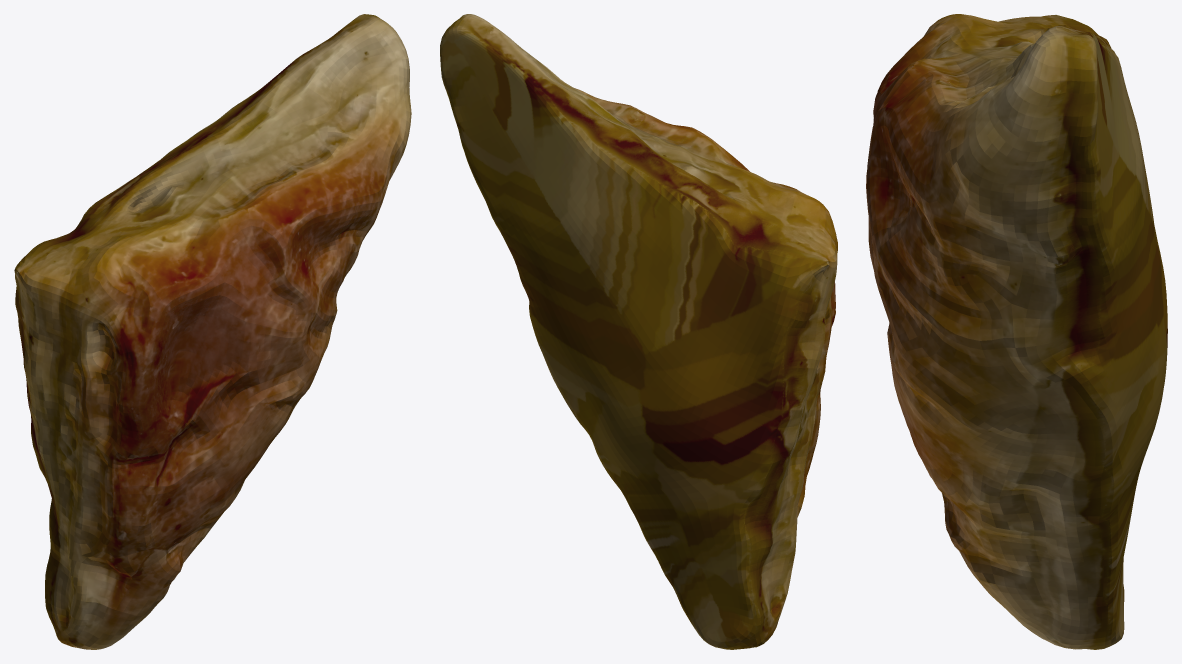
The model's file is Pastry_LowPoly.obj.
The picture shows the model from 3 angles, left to right: view 1: azimuth 30°, elevation 25°; view 2: azimuth 150°, elevation 25°; view 3: azimuth 270°, elevation 25°; orthographic projection. The views are drawn at different scales.
Parts seen in each view (by area): view 1: PM3D_vvv; view 2: PM3D_vvv; view 3: PM3D_vvv.
Part boxes in pixels (box(x1,y1,x2,y2)): PM3D_vvv: box(14, 14, 411, 649); PM3D_vvv: box(440, 14, 837, 649); PM3D_vvv: box(866, 14, 1167, 649).
Bounding box in the file's own units: 24.6 × 34.51 × 11.77.
